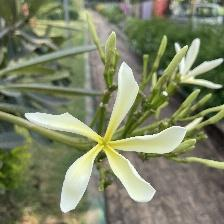champaka: (23, 63, 190, 217), (171, 39, 224, 92)
